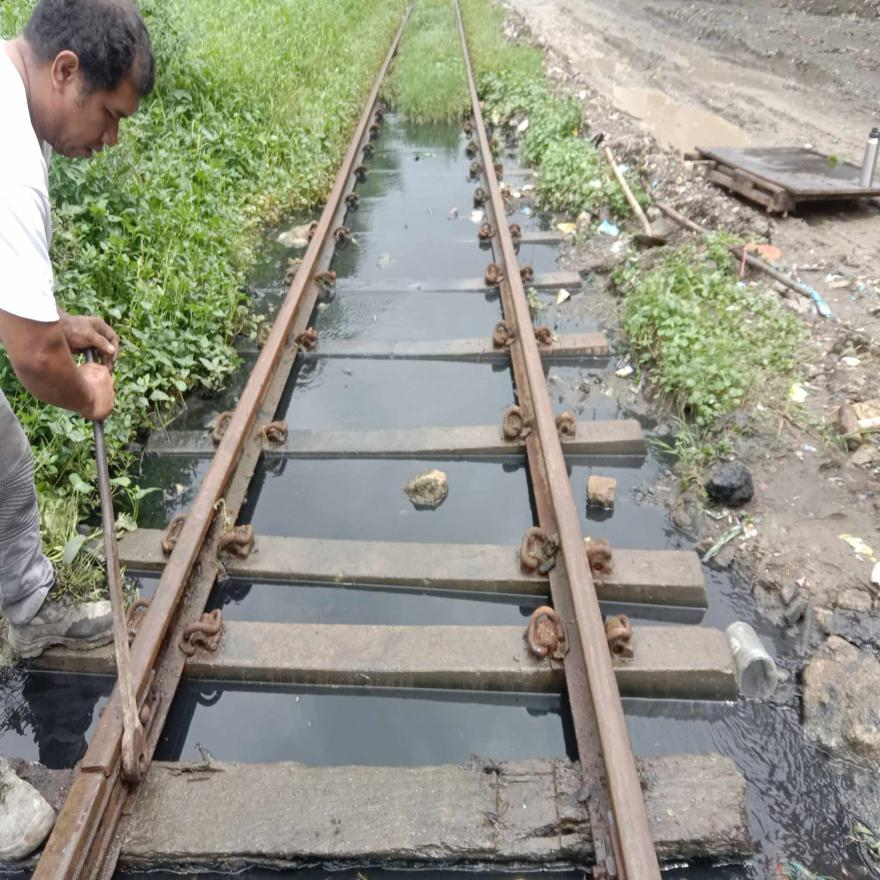railway-gap: (66, 731, 121, 810)
